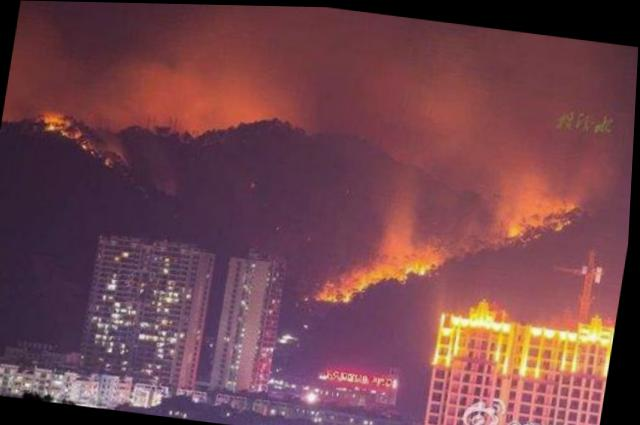fire: (315, 162, 583, 336), (33, 105, 120, 166)
